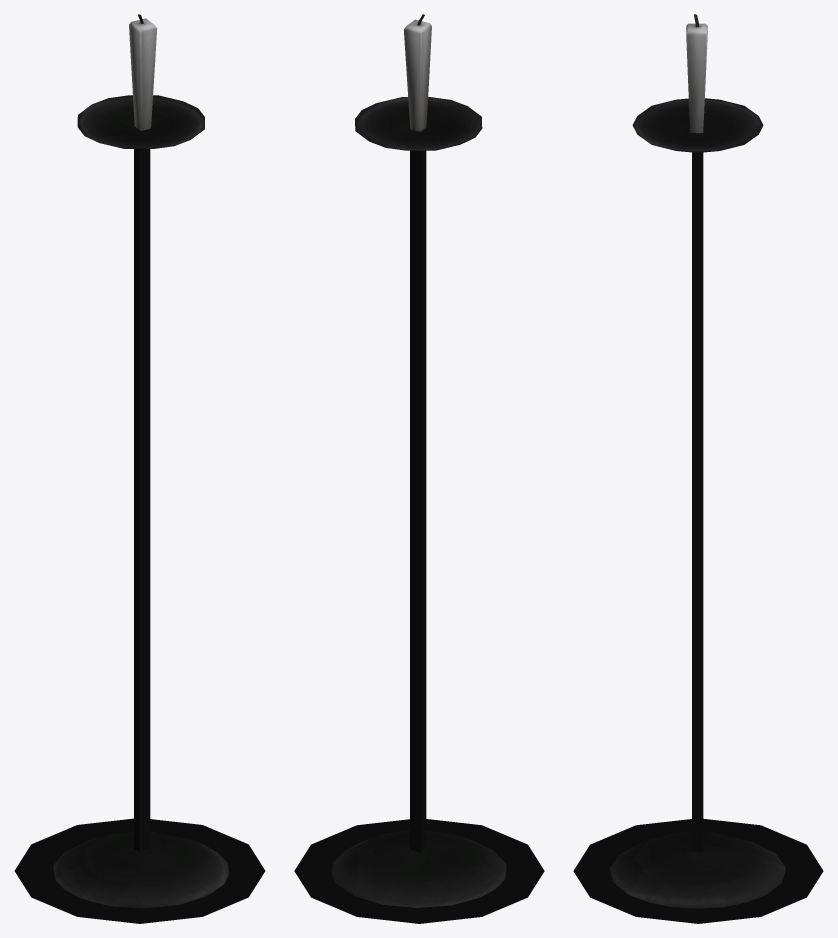
File: jj_rixi_zhutai01.FBX
3 views of the same model, side by side, from view 1: azimuth 30°, elevation 25°; view 2: azimuth 150°, elevation 25°; view 3: azimuth 270°, elevation 25° (orthographic).
Parts seen in each view (by area): view 1: jj_rixi_zhutai01, shadow; view 2: jj_rixi_zhutai01, shadow; view 3: jj_rixi_zhutai01, shadow.
Part boxes in pixels (x1,y1,x2,y2): jj_rixi_zhutai01: (53, 14, 229, 908); shadow: (14, 818, 265, 923); jj_rixi_zhutai01: (331, 14, 506, 907); shadow: (294, 819, 544, 923); jj_rixi_zhutai01: (609, 14, 785, 908); shadow: (573, 818, 823, 923).
Size of the model in its own units: 33.33 by 127 by 33.33.
